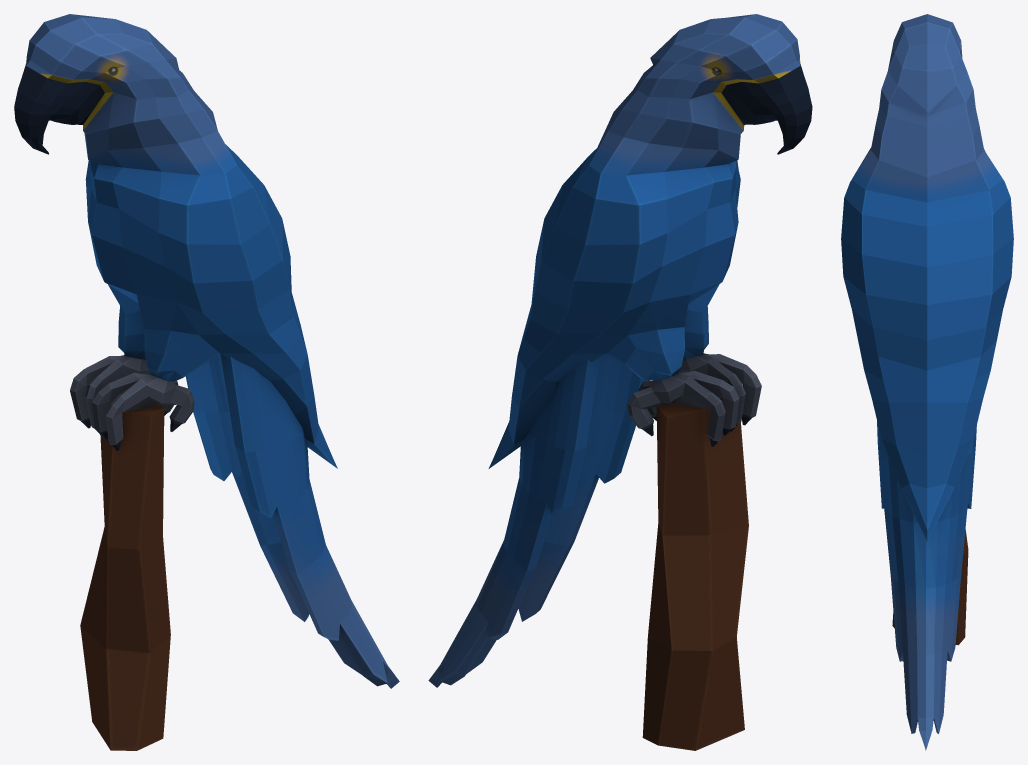
File: Macaw.glb
3 renders of one model, left to right at view 1: azimuth 30°, elevation 25°; view 2: azimuth 150°, elevation 25°; view 3: azimuth 270°, elevation 25°, orthographic. The views are drawn at different scales.
Parts seen in each view (by area): view 1: node-0; view 2: node-0; view 3: node-0.
Boxes of the visible parts, x1,y1,x2,y2 form: node-0: (14, 14, 399, 750); node-0: (428, 14, 812, 750); node-0: (841, 14, 1013, 750).
Bounding box in the file's own units: 5.79 × 10.74 × 2.77.
1 material, 1 textured.
